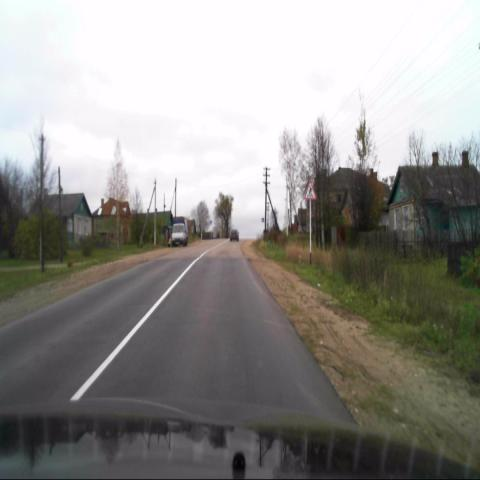1_22: (304, 179, 316, 200)
